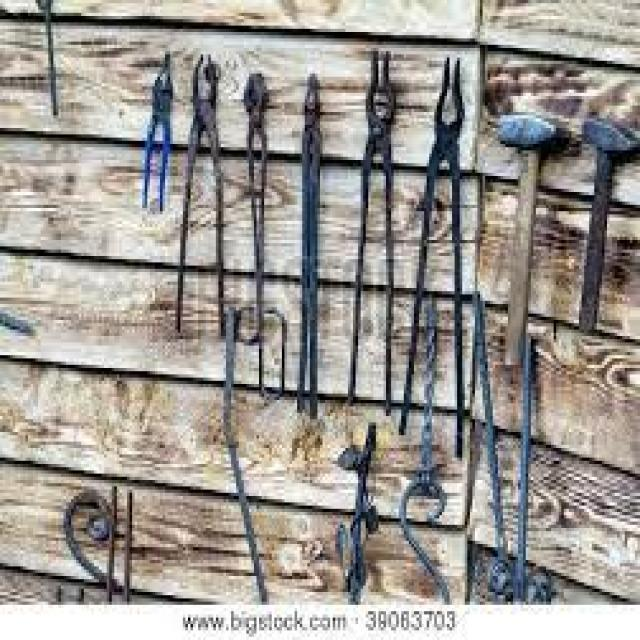hammer: (492, 88, 570, 373), (561, 107, 640, 341)
